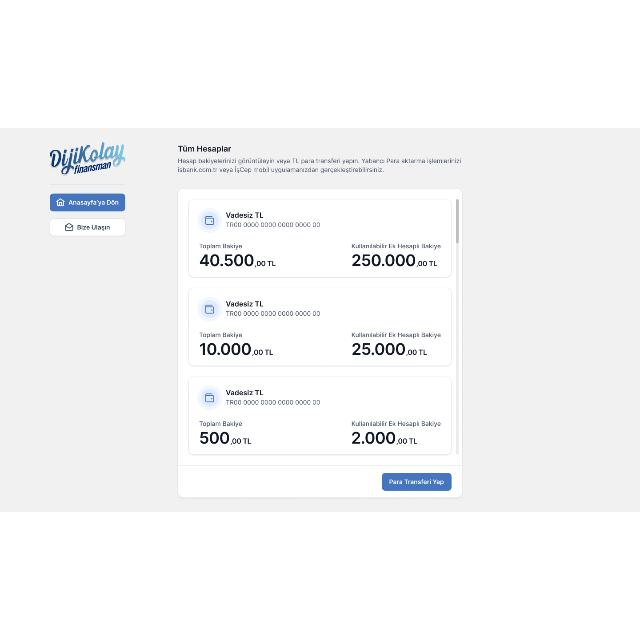QLabel: (178, 157, 462, 166), (178, 166, 386, 174), (352, 255, 416, 268), (348, 331, 444, 339), (348, 242, 444, 250), (225, 310, 321, 318), (352, 342, 406, 356), (349, 420, 443, 428), (199, 342, 251, 356), (200, 255, 254, 268), (225, 399, 319, 406), (388, 478, 447, 488), (224, 222, 320, 228), (352, 432, 396, 444), (177, 145, 233, 153), (197, 242, 246, 250), (198, 432, 230, 444), (198, 420, 245, 428), (69, 200, 119, 207), (225, 300, 267, 308), (197, 332, 246, 338), (225, 389, 265, 396), (225, 212, 267, 218), (76, 224, 110, 230), (253, 348, 273, 356), (256, 260, 276, 268), (418, 260, 438, 268), (406, 348, 426, 356), (397, 438, 417, 444), (232, 438, 250, 444)
VBtn: (50, 194, 126, 212), (50, 218, 126, 236), (382, 474, 452, 491)
VCard: (178, 188, 462, 500), (188, 376, 452, 456), (188, 198, 452, 278), (188, 288, 452, 367)
VDivider: (178, 464, 462, 468)
VIcon: (196, 297, 224, 323), (196, 386, 224, 412), (197, 208, 223, 234), (56, 198, 64, 206), (65, 223, 73, 231)
VImg: (49, 143, 125, 175)
